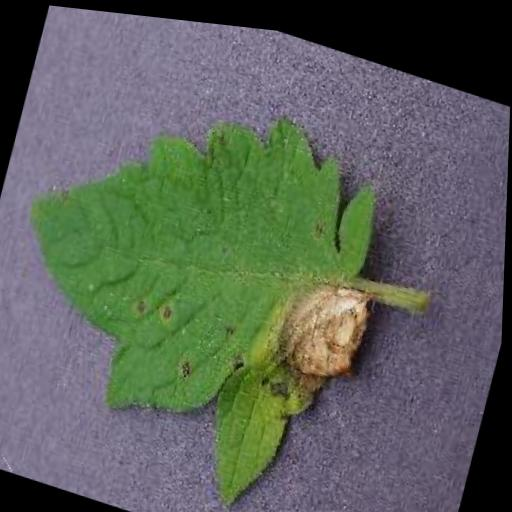Septoria: (0, 34, 410, 512)
